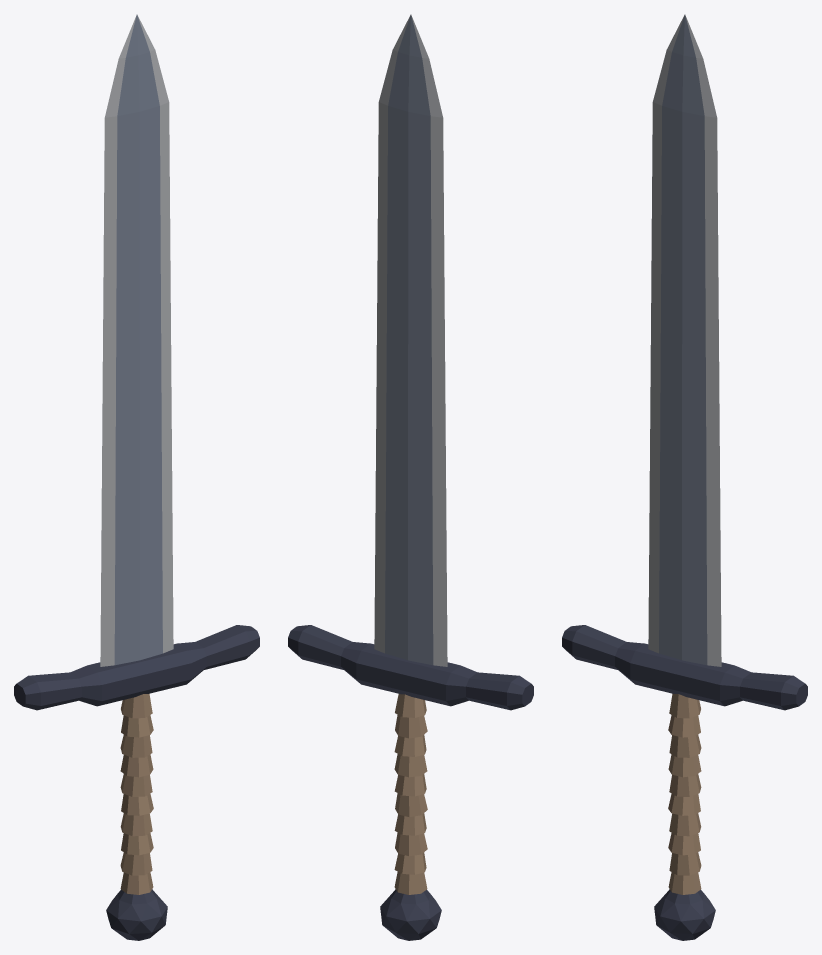
File: greatsword-a956f3.glb
3 renders of one model, left to right at view 1: azimuth 30°, elevation 25°; view 2: azimuth 150°, elevation 25°; view 3: azimuth 330°, elevation 25°, orthographic.
Parts seen in each view (by area): view 1: greatsword-metal, greatsword-matte; view 2: greatsword-metal, greatsword-matte; view 3: greatsword-metal, greatsword-matte.
Boxes of the visible parts, box(x1,y1,x2,y2) form: greatsword-metal: box(14, 14, 259, 940); greatsword-matte: box(120, 693, 153, 894); greatsword-metal: box(288, 14, 533, 940); greatsword-matte: box(394, 694, 427, 894); greatsword-metal: box(562, 14, 807, 940); greatsword-matte: box(668, 693, 701, 894).
Bounding box in the file's own units: 0.4 × 1.5 × 0.088.
